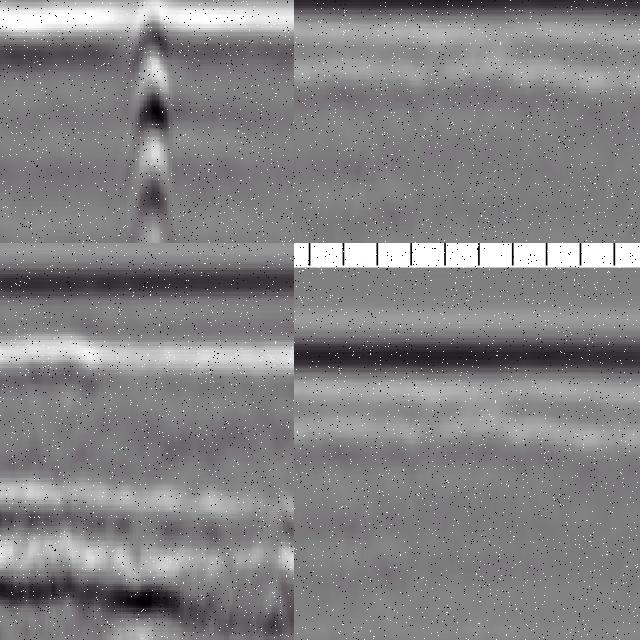crack: (136, 1, 166, 244)
